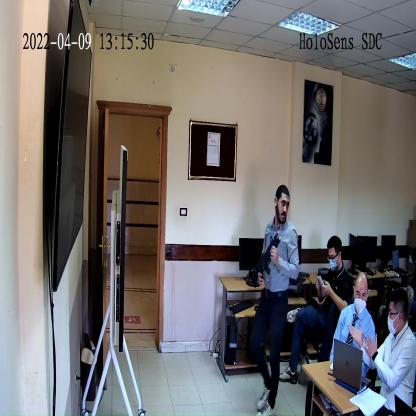handgun: (252, 233, 280, 286)
